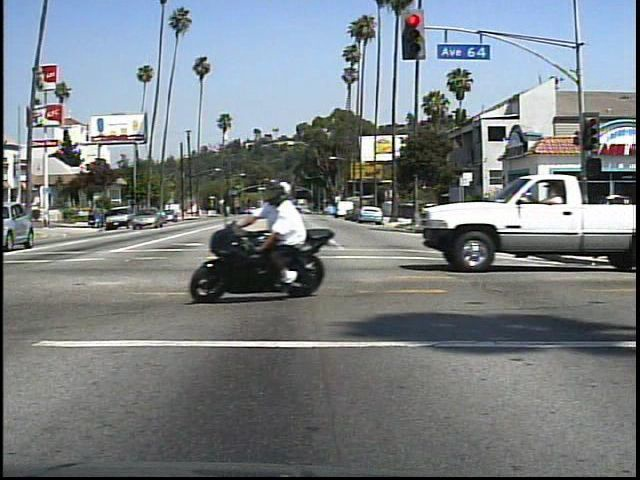person: (252, 177, 327, 294), (544, 192, 572, 245)
